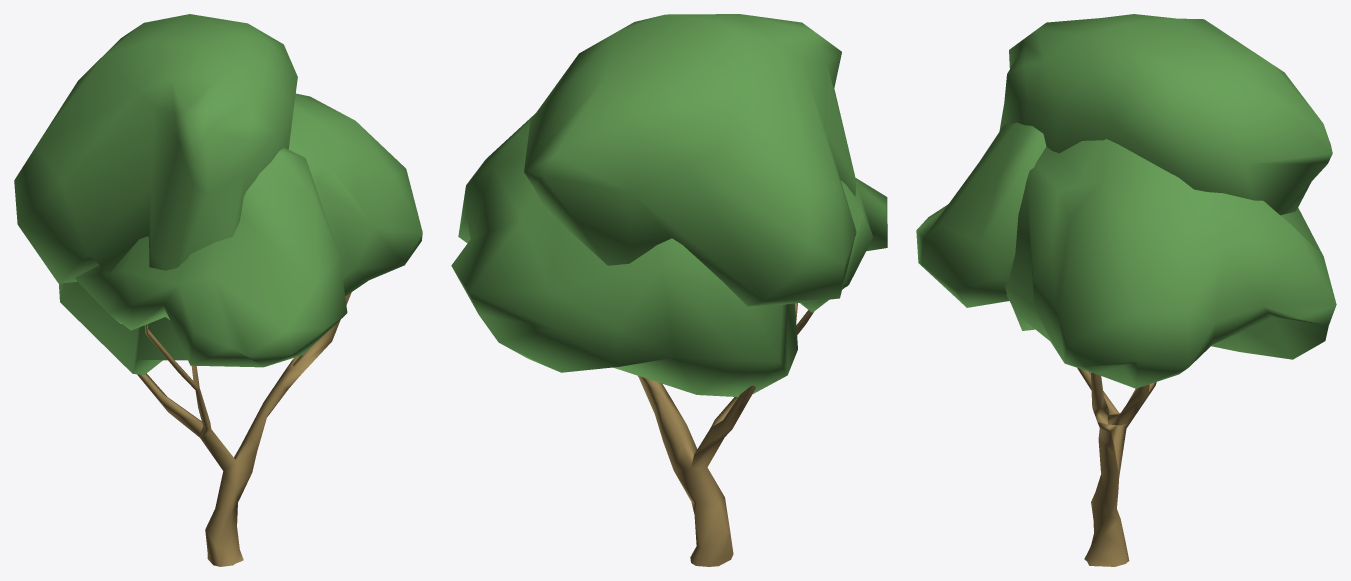
Rendered from tree4-transformed.glb.
3 views of the same model, side by side, from view 1: azimuth 30°, elevation 25°; view 2: azimuth 150°, elevation 25°; view 3: azimuth 270°, elevation 25° (orthographic). The views are drawn at different scales.
Visible parts, largest first — view 1: Cube.001; view 2: Cube.001; view 3: Cube.001.
Part boxes in pixels (box(x1,y1,x2,y2)): Cube.001: box(14, 14, 422, 566); Cube.001: box(451, 14, 887, 566); Cube.001: box(916, 14, 1336, 566).
Size of the model in its own units: 4.59 by 6.07 by 4.35.
Materials: 1 (1 with a texture image).
